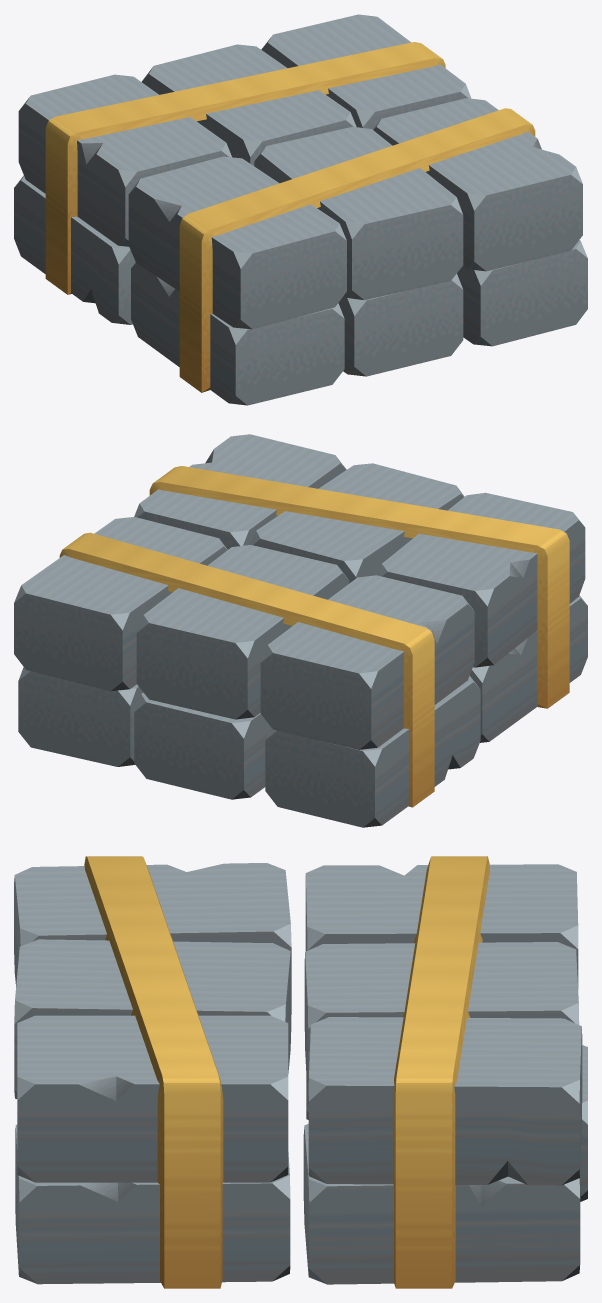
Rendered from Stone_Bricks_Stack_Medium.gltf.
The picture shows the model from 3 angles, top to bottom: view 1: azimuth 30°, elevation 25°; view 2: azimuth 150°, elevation 25°; view 3: azimuth 270°, elevation 25°; orthographic projection. The views are drawn at different scales.
Visible parts, largest first — view 1: Stone_Bricks_Stack_Medium; view 2: Stone_Bricks_Stack_Medium; view 3: Stone_Bricks_Stack_Medium.
Part boxes in pixels (bbox=[...]): Stone_Bricks_Stack_Medium: bbox=[14, 14, 587, 405]; Stone_Bricks_Stack_Medium: bbox=[14, 434, 587, 827]; Stone_Bricks_Stack_Medium: bbox=[14, 856, 587, 1288].
Size of the model in its own units: 1.51 by 0.6332 by 1.59.
1 material, 1 textured.
